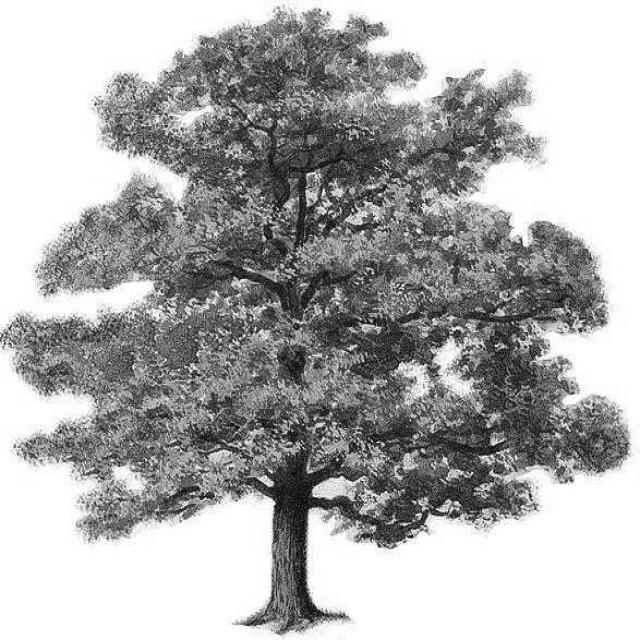Tree: (4, 10, 628, 628)
